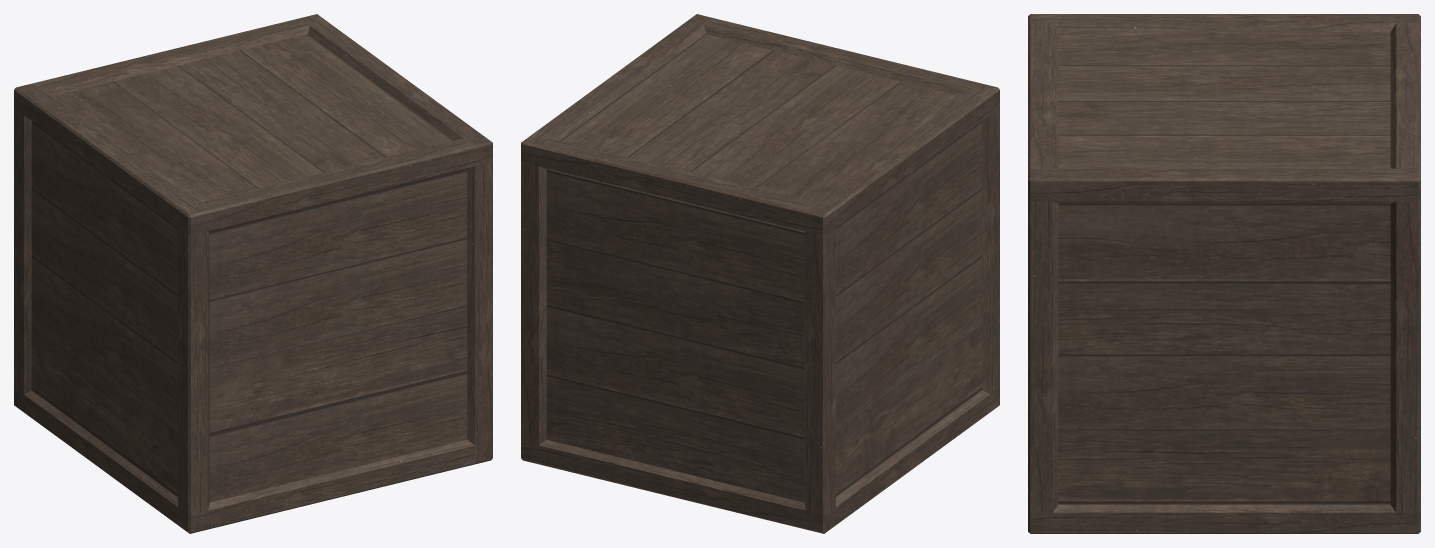
Rendered from Crate.fbx.
3 views of the same model, side by side, from view 1: azimuth 30°, elevation 25°; view 2: azimuth 150°, elevation 25°; view 3: azimuth 270°, elevation 25° (orthographic). The views are drawn at different scales.
Parts seen in each view (by area): view 1: Crate; view 2: Crate; view 3: Crate.
Part boxes in pixels (x1,y1,x2,y2): Crate: [14, 14, 492, 533]; Crate: [521, 14, 999, 533]; Crate: [1028, 14, 1420, 533].
Bounding box in the file's own units: 100 × 100 × 100.
Materials: 1 (1 with a texture image).
